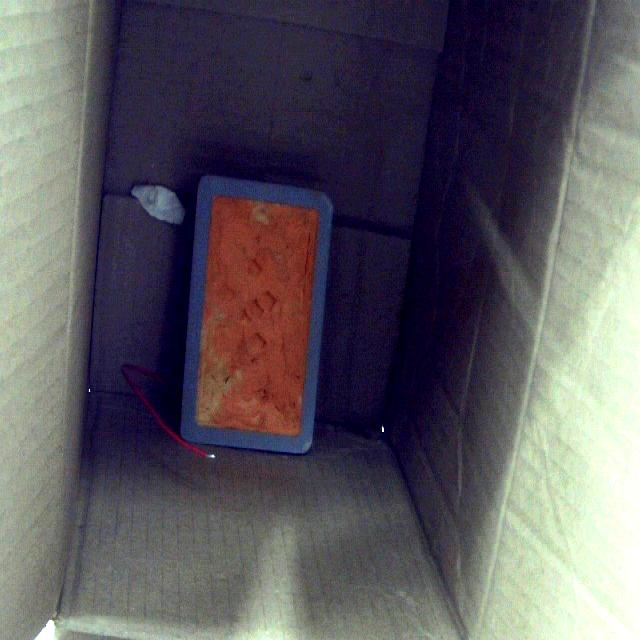block: (179, 177, 335, 460)
